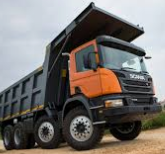truck: (1, 1, 160, 151)
